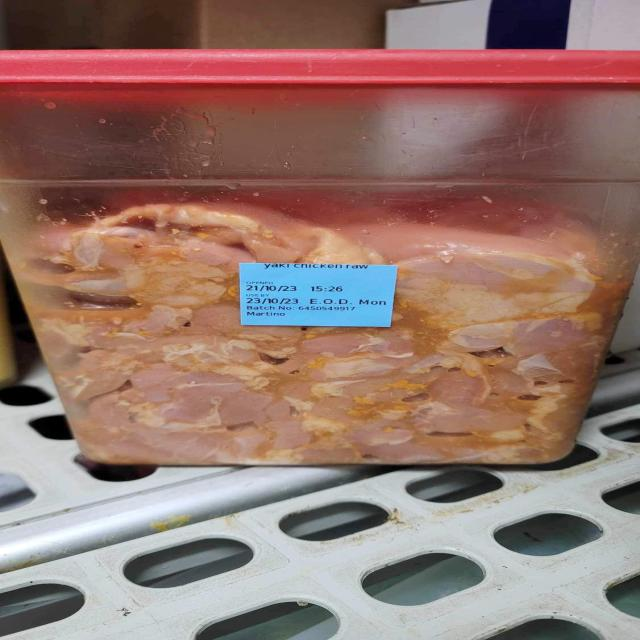product-labels: (240, 262, 397, 328)
